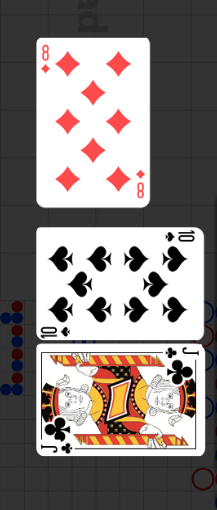10S: (163, 229, 196, 243)
8D: (40, 44, 52, 76)
JC: (40, 441, 75, 456)
